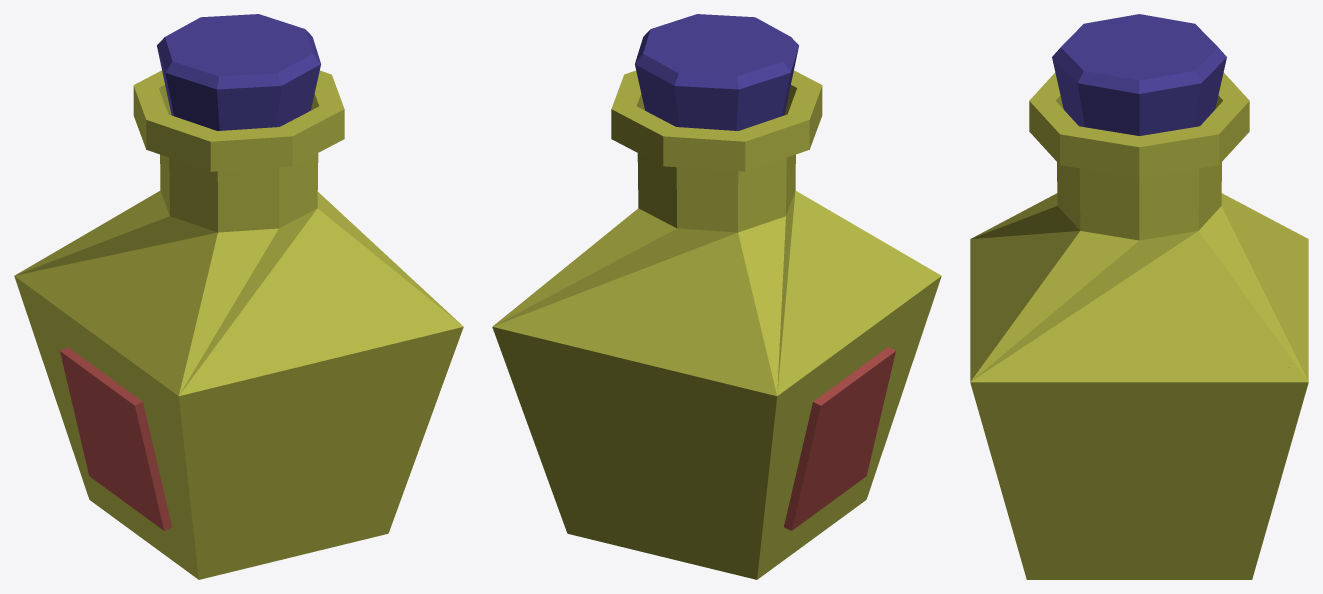
The model's file is Posion con liquido.fbx.
3 views of the same model, side by side, from view 1: azimuth 30°, elevation 25°; view 2: azimuth 150°, elevation 25°; view 3: azimuth 270°, elevation 25° (orthographic). The views are drawn at different scales.
Parts seen in each view (by area): view 1: pCube1, pCylinder1, pCube2; view 2: pCube1, pCylinder1, pCube2; view 3: pCube1, pCylinder1.
Boxes of the visible parts, x1,y1,x2,y2 form: pCube1: (14,70,463,579); pCylinder1: (157,14,320,130); pCube2: (60,347,171,530); pCube1: (492,70,941,579); pCylinder1: (635,14,798,130); pCube2: (784,347,895,530); pCube1: (970,72,1308,579); pCylinder1: (1052,14,1226,135).
Bounding box in the file's own units: 1.26 × 1.98 × 1.26.
